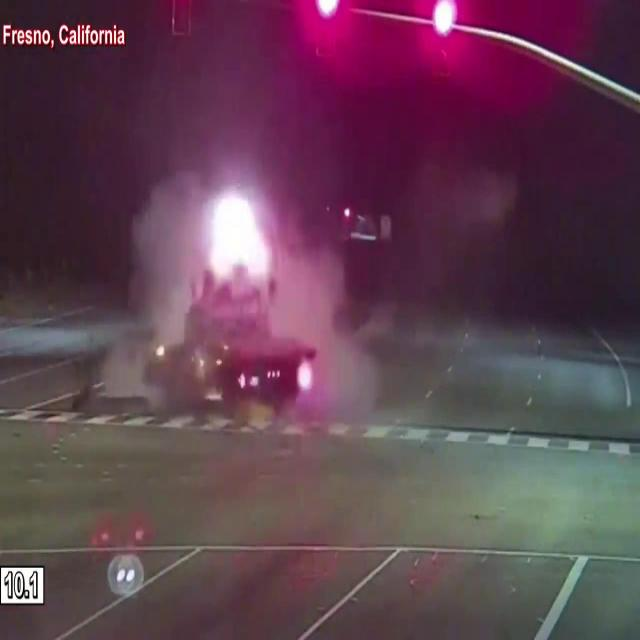accident: (138, 258, 318, 433)
